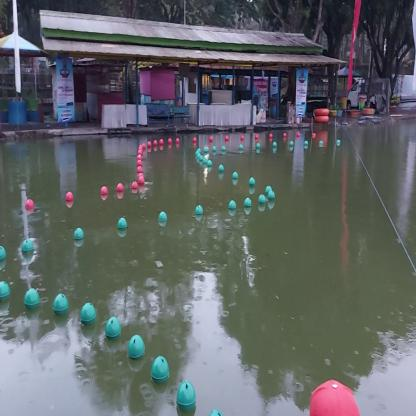green_buoy: (176, 380, 198, 412), (150, 355, 171, 385), (127, 334, 146, 363), (104, 315, 121, 343), (52, 292, 70, 318), (23, 288, 41, 312), (80, 302, 96, 327), (21, 237, 35, 258), (158, 210, 167, 226), (117, 218, 127, 232), (74, 227, 84, 241), (194, 204, 204, 217), (243, 197, 252, 209), (248, 177, 256, 188), (258, 194, 266, 205), (268, 191, 275, 203), (265, 185, 272, 196), (229, 200, 236, 211), (218, 164, 225, 173), (232, 172, 239, 181), (238, 144, 244, 153), (318, 141, 324, 148), (289, 141, 294, 149), (256, 142, 260, 152), (211, 145, 216, 153), (221, 146, 226, 154), (203, 158, 208, 166), (208, 159, 212, 169), (304, 141, 309, 148), (195, 152, 200, 159), (197, 154, 202, 161), (204, 147, 208, 155), (272, 143, 277, 149), (197, 148, 201, 155), (337, 140, 341, 146), (200, 155, 203, 163)
red_buoy: (25, 198, 35, 212), (64, 191, 74, 203), (116, 182, 124, 195), (100, 186, 108, 197), (137, 176, 145, 186), (131, 180, 138, 191), (136, 166, 144, 174), (138, 173, 145, 182), (152, 139, 158, 146), (146, 141, 152, 148), (175, 137, 180, 145), (137, 159, 142, 167), (192, 136, 197, 143), (159, 138, 164, 145), (137, 155, 142, 162), (138, 149, 142, 157), (167, 138, 172, 144), (141, 143, 146, 149), (225, 135, 229, 142), (209, 136, 213, 143), (282, 132, 287, 137), (296, 132, 300, 138), (269, 133, 273, 139), (240, 135, 244, 141), (312, 133, 316, 138), (255, 134, 258, 140)
